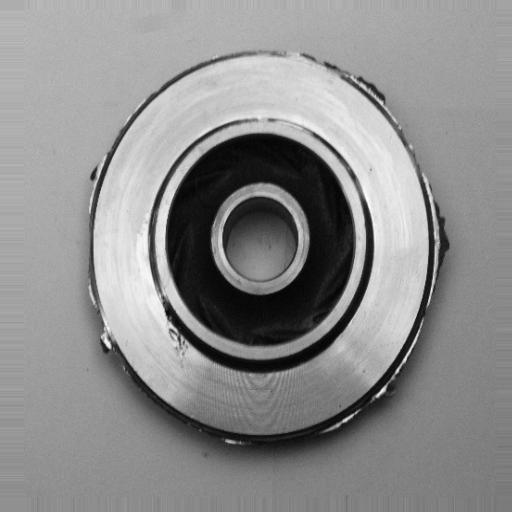casting_with_burr: (79, 47, 452, 453)
crack: (162, 288, 197, 363)
scratch: (248, 108, 318, 136)
